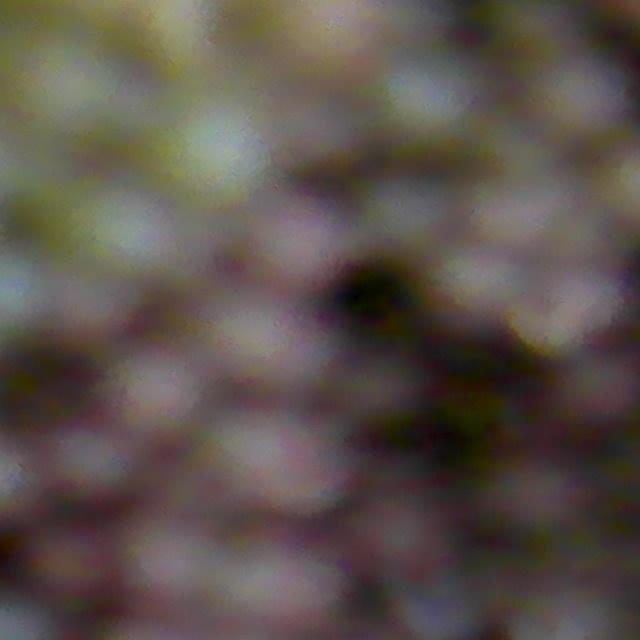SeaGrape: (201, 407, 349, 519), (195, 302, 328, 398), (165, 96, 272, 209), (219, 535, 335, 631), (372, 52, 475, 150), (71, 186, 175, 282), (343, 492, 452, 581), (253, 201, 351, 296), (536, 51, 634, 143), (121, 519, 214, 611), (428, 243, 518, 334), (52, 424, 136, 506), (500, 457, 586, 532), (568, 351, 640, 427), (35, 529, 106, 600)
